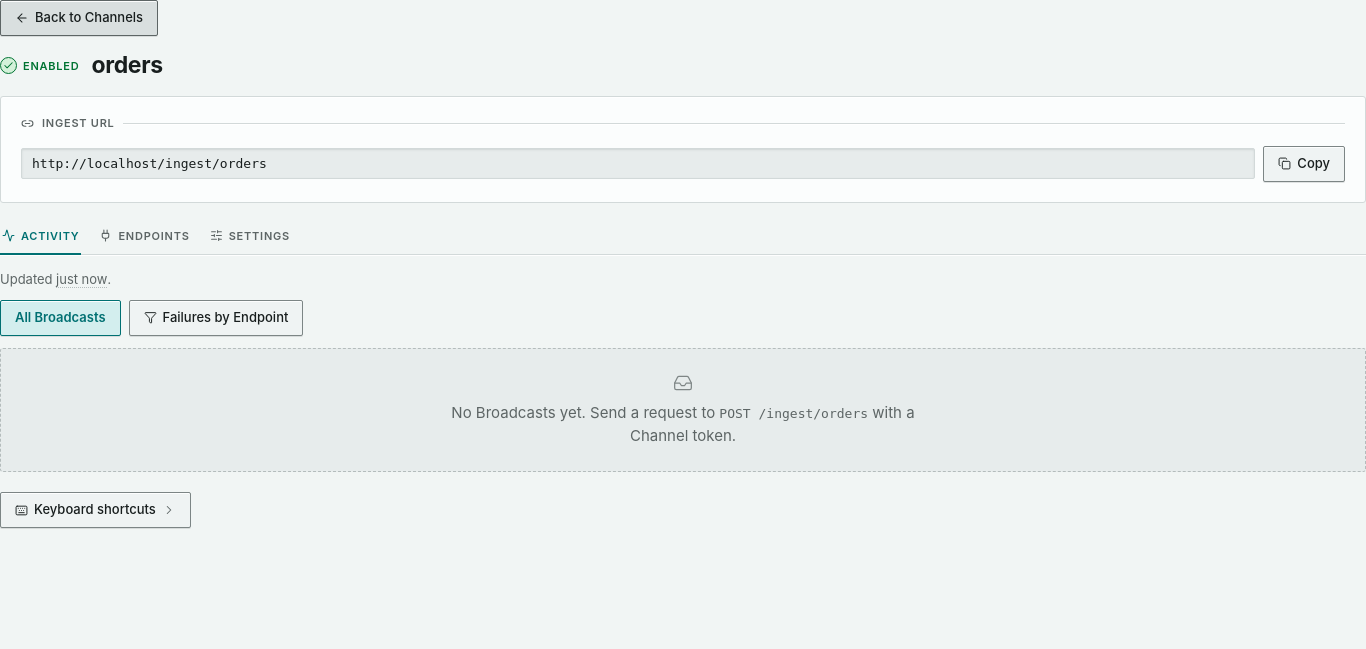
Scenario: ChannelDetailPage — Activity tab and ingest tokens › mints an ingest token, shows the plaintext once, and revoke requires confirmation
Click the link "Settings". click: [250, 236]
box: [210, 229, 290, 243]
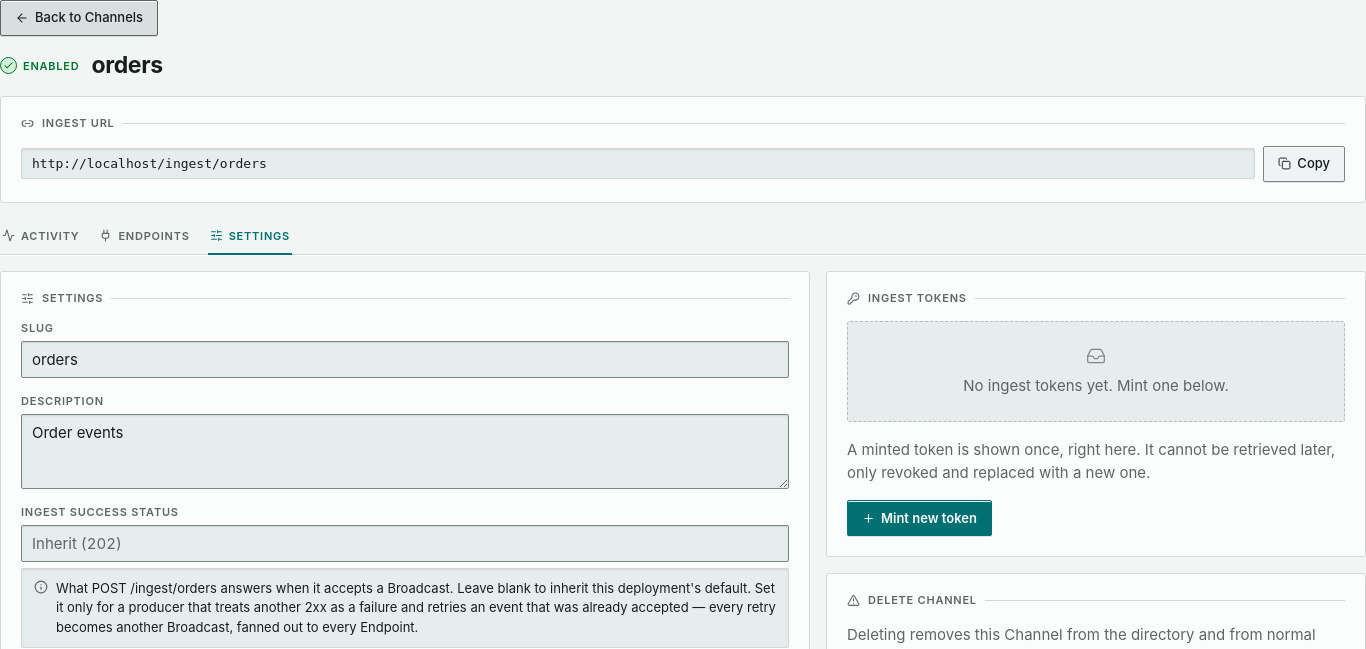
Click the button "Mint new token". click: [920, 518]
box: [847, 500, 992, 536]
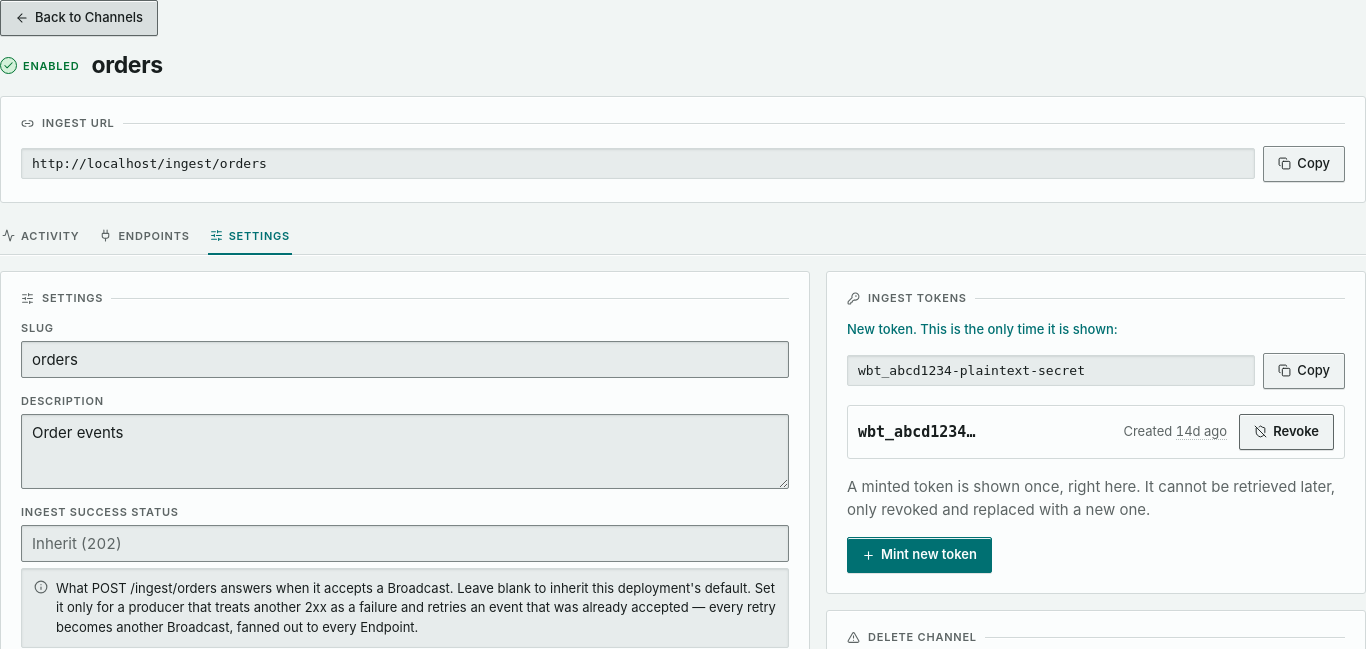
expect the text "wbt_abcd1234-plaintext-secret" is shown: met, box [847, 355, 1255, 386]
expect the text "wbt_abcd1234…" is shown: met, box [858, 423, 975, 441]
// Revoke opens an in-place confirmation instead of revoking immediately.
Click the button "Revoke". click: [1287, 432]
box: [1239, 414, 1334, 450]
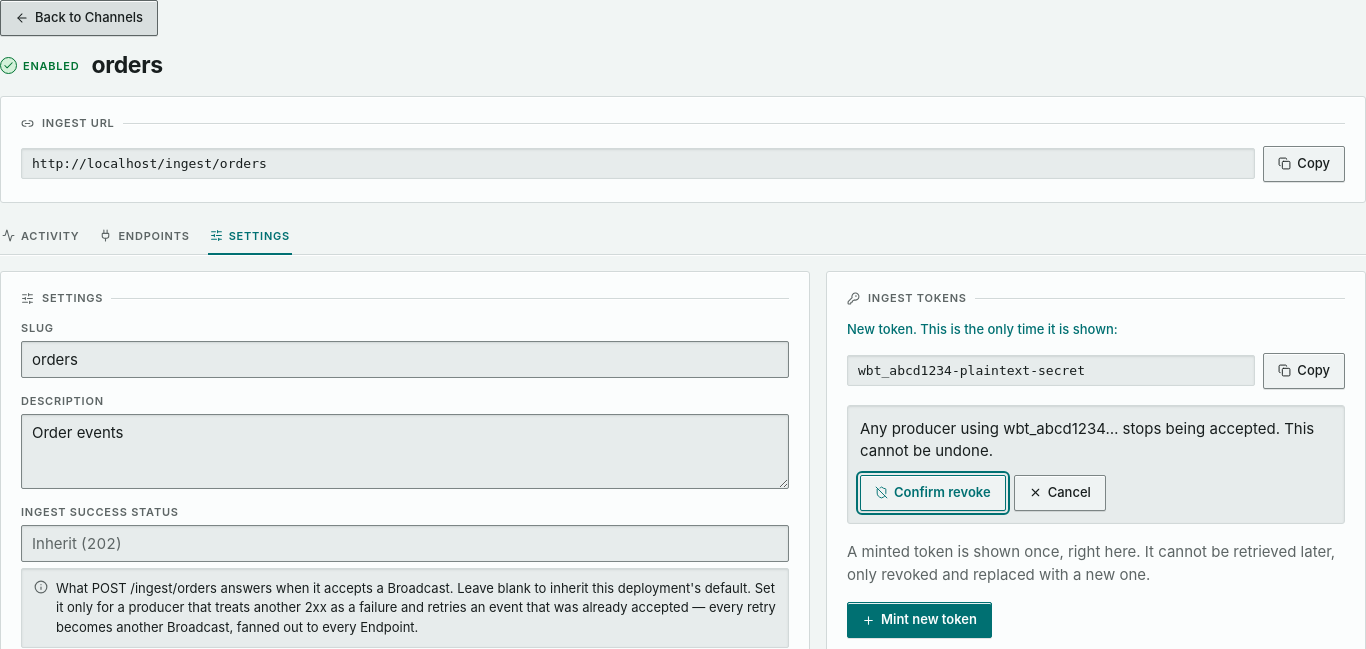
expect the text "Any producer using wbt_abcd1234… stops being accepted" is shown: met, box [860, 418, 1332, 463]
expect the button "Confirm revoke" is shown: met
expect the button "Cancel" is shown: met, box [1014, 475, 1106, 511]
Click the button "Confirm revoke". click: [933, 493]
box: [860, 475, 1006, 511]
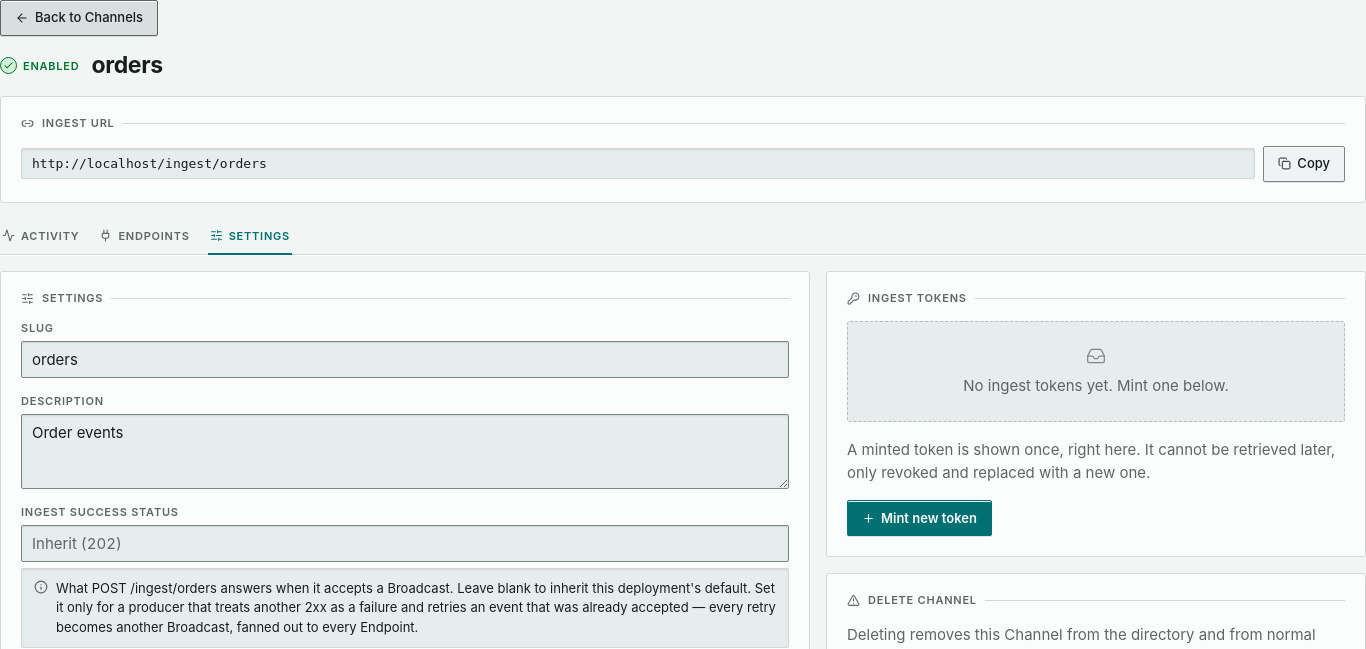
expect the text "wbt_abcd1234…" is gone: met
